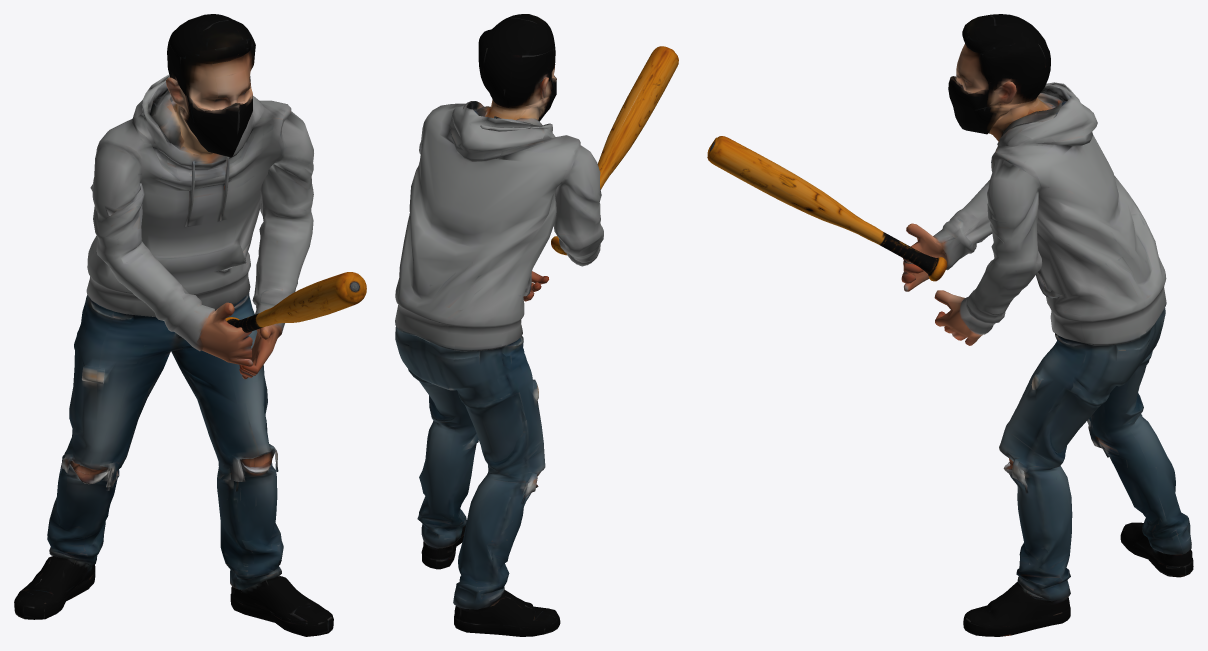
The model's file is perusuh_idle.glb.
3 renders of one model, left to right at view 1: azimuth 30°, elevation 25°; view 2: azimuth 150°, elevation 25°; view 3: azimuth 270°, elevation 25°, orthographic. The views are drawn at different scales.
Visible parts, largest first — view 1: body; view 2: body; view 3: body.
Boxes of the visible parts, left/top/right/bottom form: body: left=14, top=14, right=366, bottom=636; body: left=395, top=14, right=678, bottom=636; body: left=707, top=14, right=1193, bottom=636.
Bounding box in the file's own units: 36.26 × 94.36 × 72.8.
Materials: 2 (2 with a texture image).
